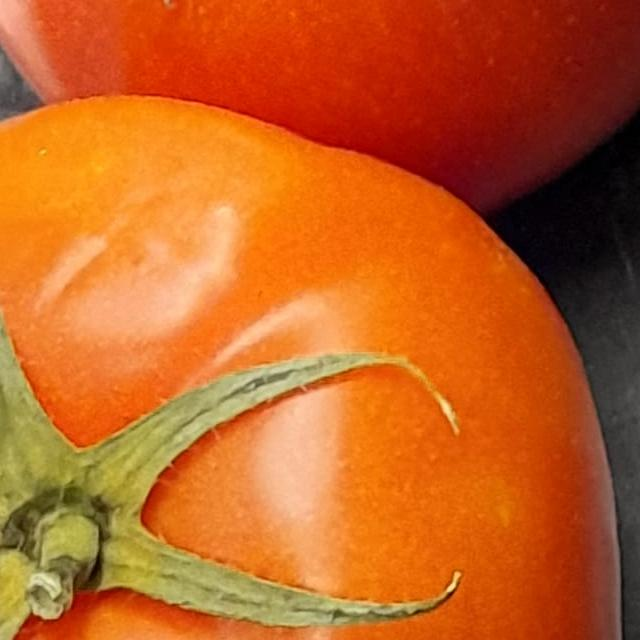tomato: (0, 120, 640, 640), (0, 0, 640, 183)
